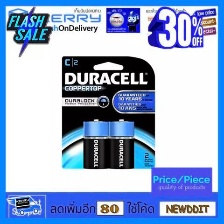battery: (81, 116, 112, 170), (107, 117, 137, 170)
